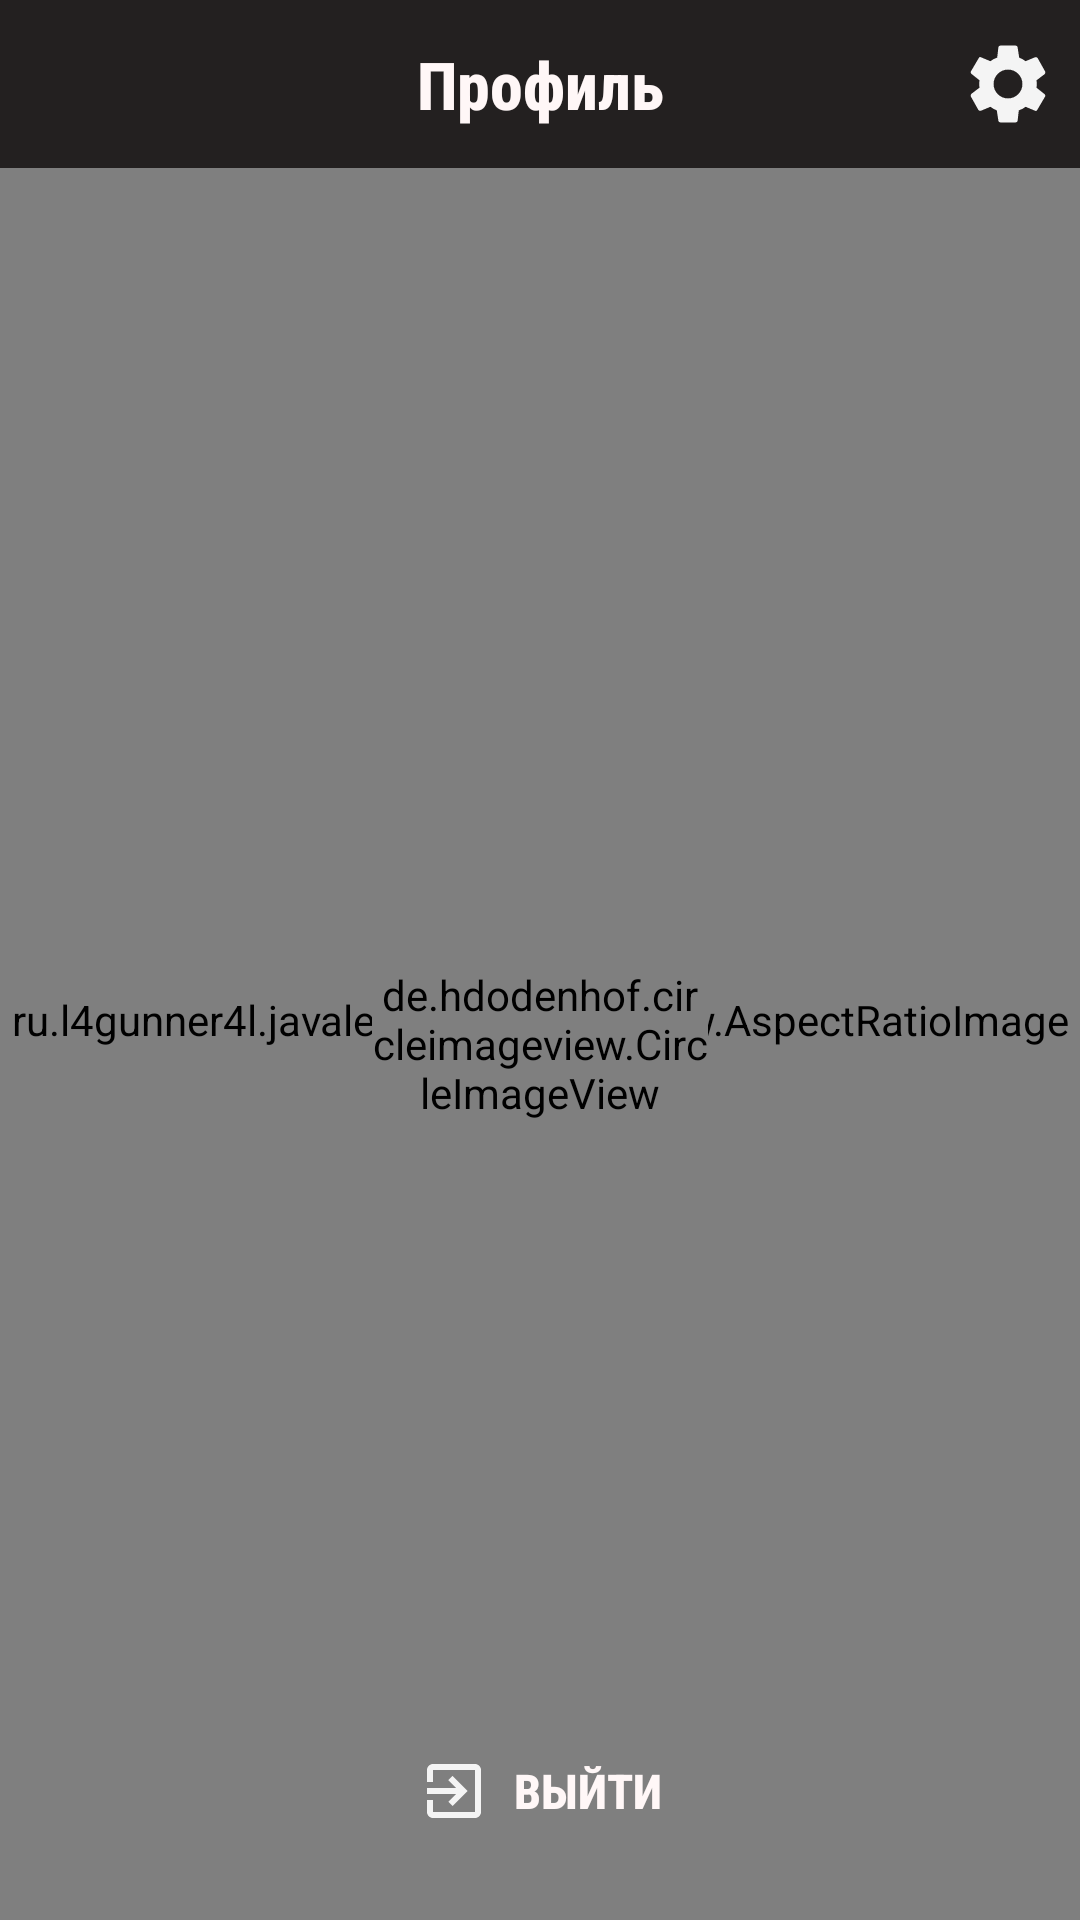

Named icons in this screenshot (1080*1920) and their bounding boxes, rect(x1, y1, x2, y2):
settings: rect(970, 45, 1046, 123)
